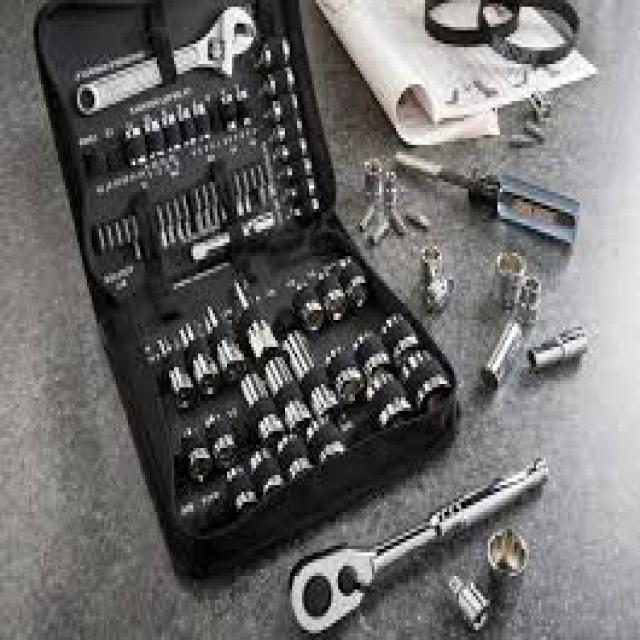wrench: (73, 10, 263, 111)
